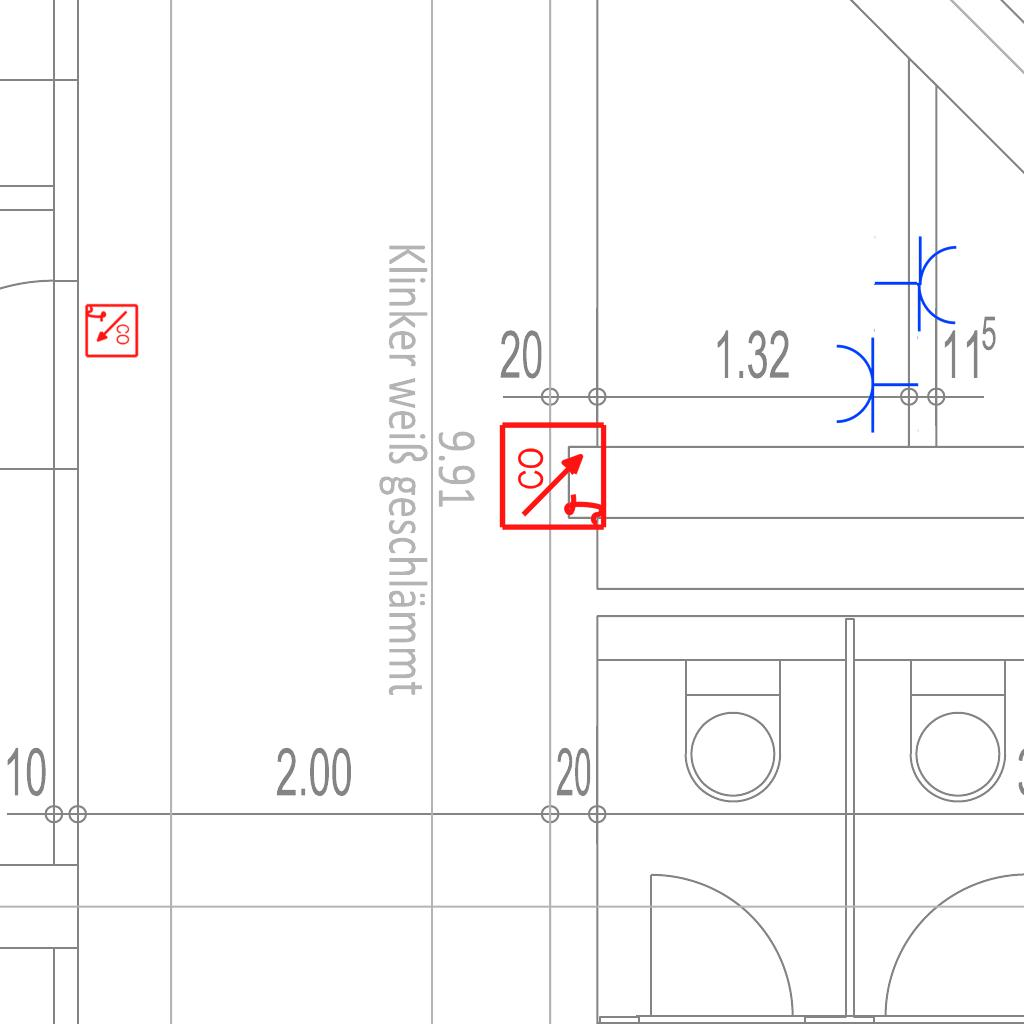ROA_Rauchmelder_optisch_mit_Signalgeber_(Sockelsirene): (498, 419, 611, 532), (83, 303, 139, 359)
Schukosteckdose_einfach: (872, 233, 962, 336), (832, 334, 919, 434)
